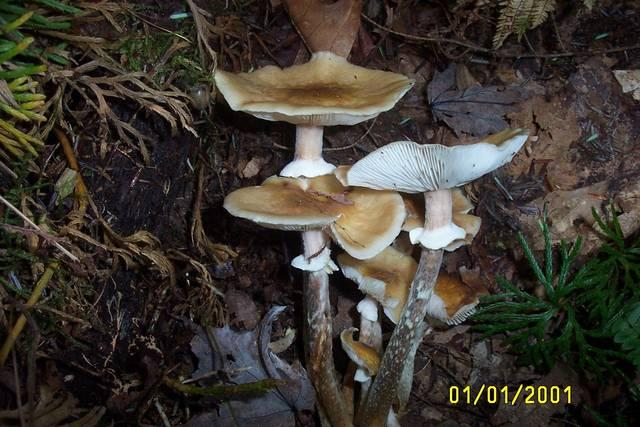edible_mushroom: (341, 125, 530, 425), (212, 49, 415, 178)
